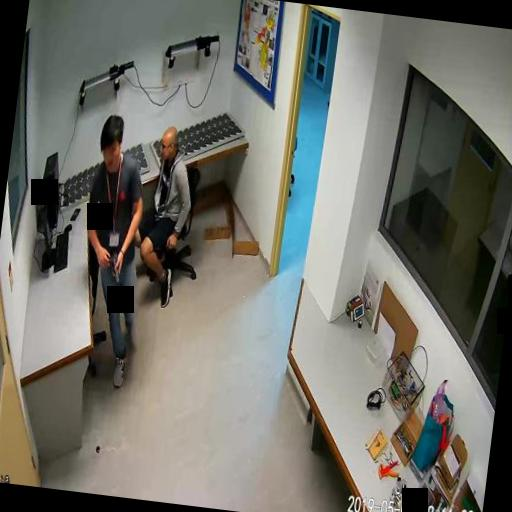Handgun: (99, 246, 123, 286)
